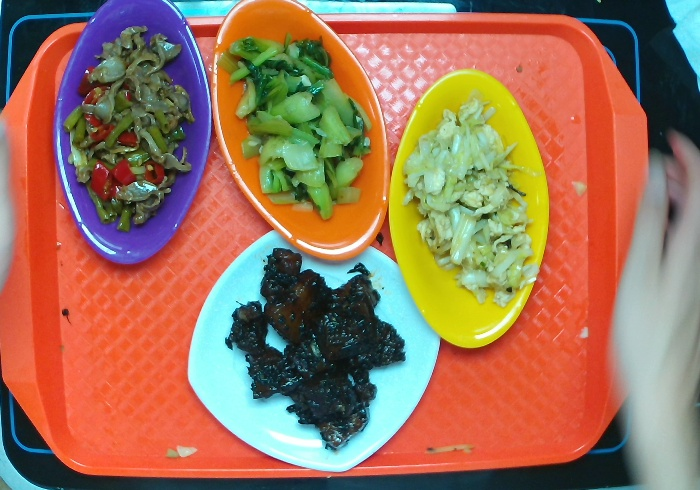RJxy-Fen_Hong_Tuo_Yuan: (55, 1, 211, 260)
RJxy-Huang_Se_Tuo_Yuan: (391, 72, 551, 350)
RJxy-Ju_Huang_Tuo_Yuan: (210, 1, 397, 260)
RJxy-Si_Fang_Die: (184, 225, 440, 480)
